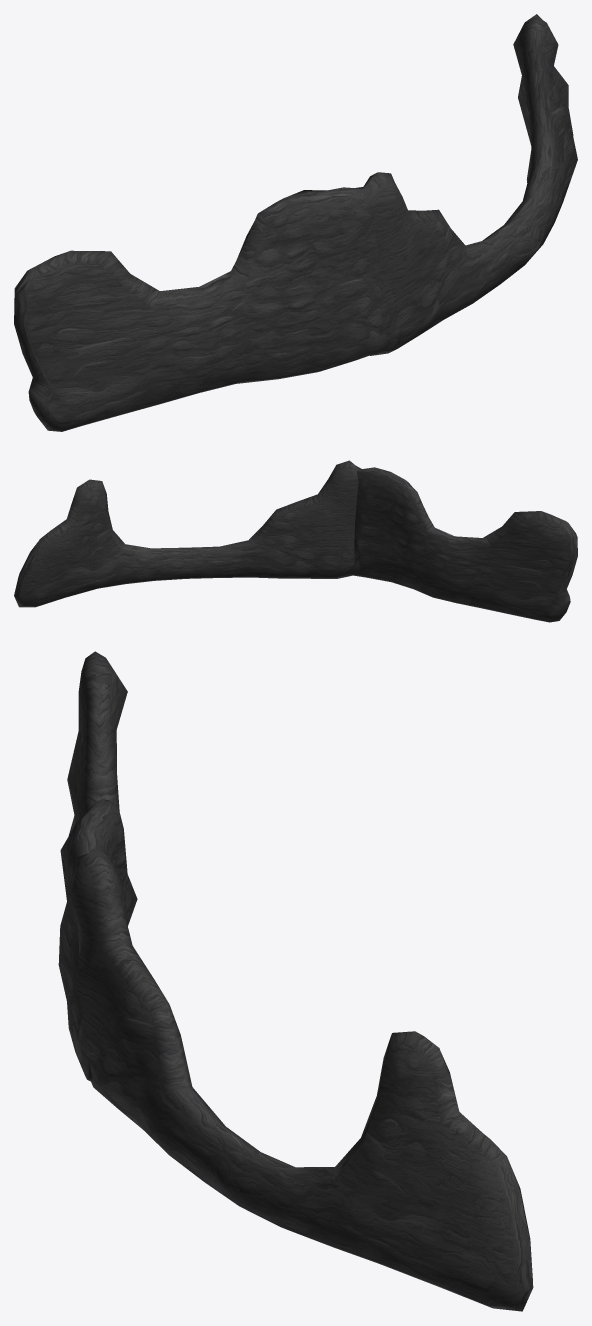
Rendered from DoubleRuinShape.dae.
3 views of the same model, one above another, from view 1: azimuth 30°, elevation 25°; view 2: azimuth 150°, elevation 25°; view 3: azimuth 270°, elevation 25° (orthographic). The views are drawn at different scales.
Visible parts, largest first — view 1: DoubleRuin; view 2: DoubleRuin; view 3: DoubleRuin.
Part boxes in pixels (bbox=[...]): DoubleRuin: bbox=[14, 14, 577, 431]; DoubleRuin: bbox=[14, 460, 577, 622]; DoubleRuin: bbox=[58, 651, 533, 1311].
Bounding box in the file's own units: 46.21 × 12.17 × 20.78.
